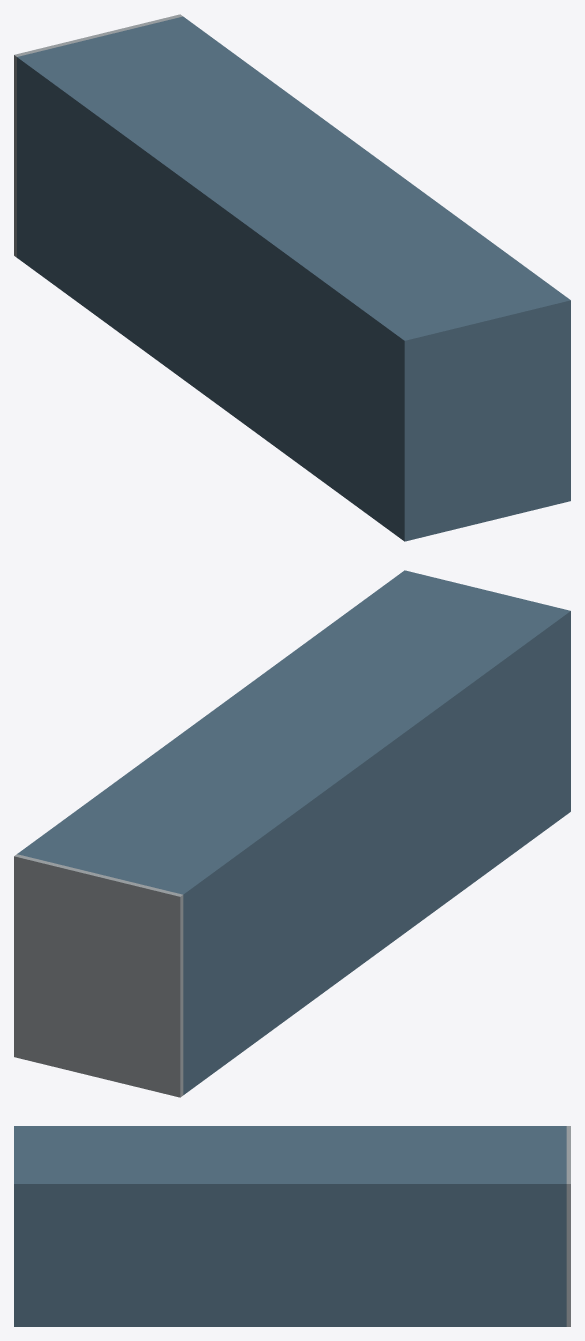
The model's file is minimal.gltf.
3 views of the same model, one above another, from view 1: azimuth 30°, elevation 25°; view 2: azimuth 150°, elevation 25°; view 3: azimuth 270°, elevation 25° (orthographic). The views are drawn at different scales.
Parts seen in each view (by area): view 1: poc-factory-left-wall, poc-factory-back-wall, poc-factory-roof, poc-factory-right-wall, poc-factory-front-left-pier, poc-factory-floor; view 2: poc-factory-left-wall, poc-factory-back-wall, poc-factory-floor, poc-factory-right-wall, poc-factory-front-left-pier, poc-factory-roof; view 3: poc-factory-right-wall, poc-factory-back-wall, poc-factory-front-right-pier, poc-factory-left-wall, poc-factory-roof, poc-factory-floor.
Part boxes in pixels (bbox=[...]): poc-factory-left-wall: bbox=[17, 55, 406, 538]; poc-factory-back-wall: bbox=[17, 17, 564, 343]; poc-factory-roof: bbox=[401, 297, 570, 541]; poc-factory-right-wall: bbox=[177, 16, 566, 298]; poc-factory-front-left-pier: bbox=[17, 253, 400, 537]; poc-factory-floor: bbox=[14, 14, 182, 257]; poc-factory-left-wall: bbox=[178, 612, 567, 1094]; poc-factory-back-wall: bbox=[18, 574, 566, 900]; poc-factory-floor: bbox=[14, 854, 183, 1097]; poc-factory-right-wall: bbox=[17, 573, 406, 855]; poc-factory-front-left-pier: bbox=[183, 814, 566, 1093]; poc-factory-roof: bbox=[401, 570, 570, 813]; poc-factory-right-wall: bbox=[19, 1181, 566, 1326]; poc-factory-back-wall: bbox=[19, 1126, 566, 1188]; poc-factory-front-right-pier: bbox=[19, 1322, 566, 1326]; poc-factory-left-wall: bbox=[19, 1126, 566, 1128]; poc-factory-roof: bbox=[14, 1126, 19, 1326]; poc-factory-floor: bbox=[566, 1126, 570, 1326].
Bounding box in the file's own units: 6.5 × 7.5 × 26.45.
